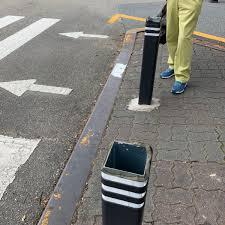Animal: (128, 12, 164, 109), (114, 135, 154, 215)
